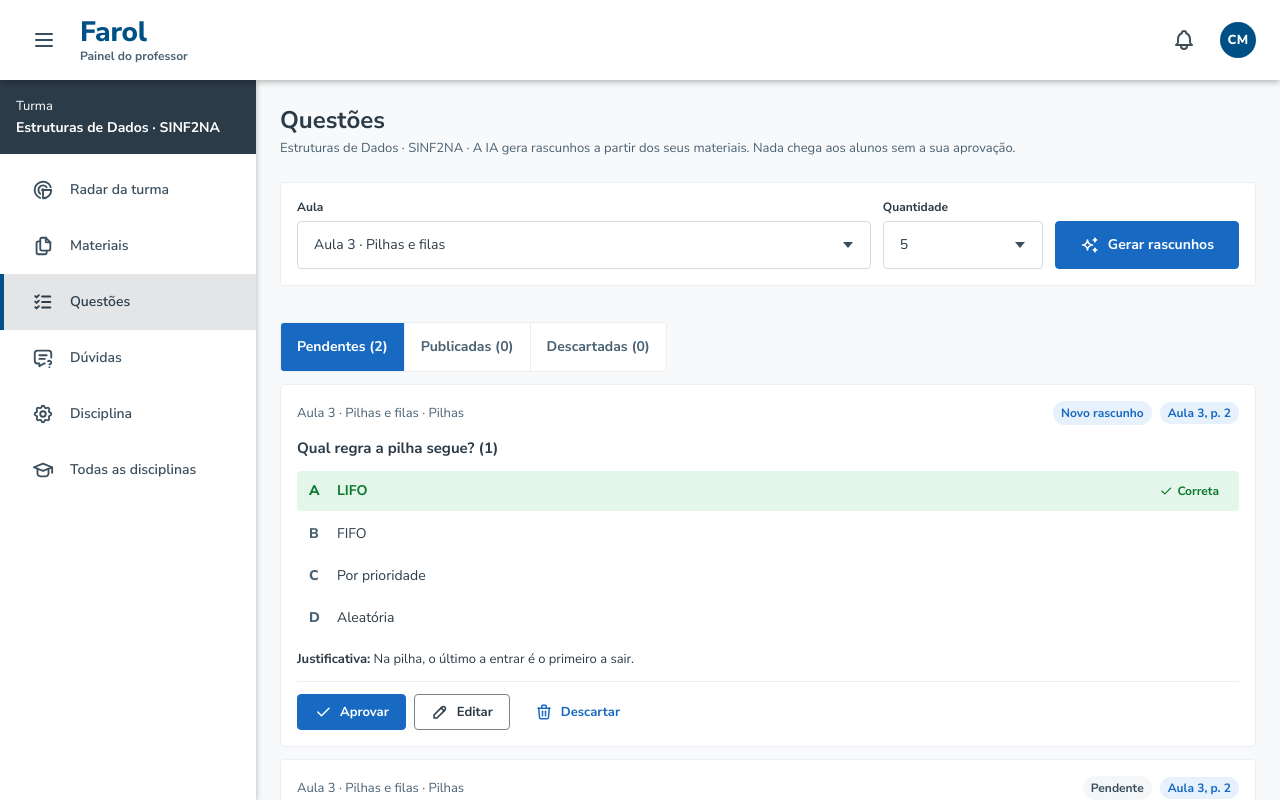
Test: questões do professor (QUE-T23, QUE-T32) › gerar rascunhos pede a quantidade escolhida e mostra os novos
Select "10" in the dropdown labelled "Quantidade" at (963, 245), box [883, 221, 1043, 269]
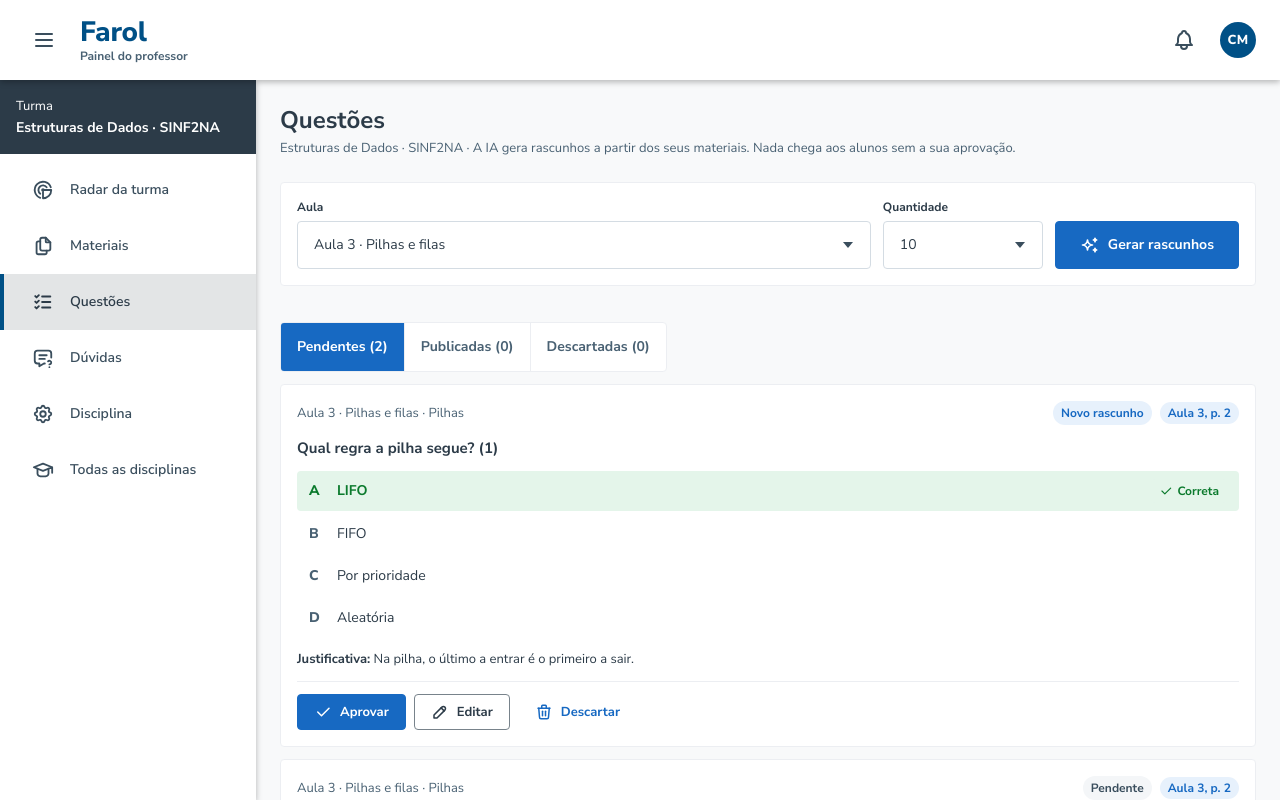
Click the button "Gerar rascunhos".
click(1147, 245)  # box [1055, 221, 1239, 269]
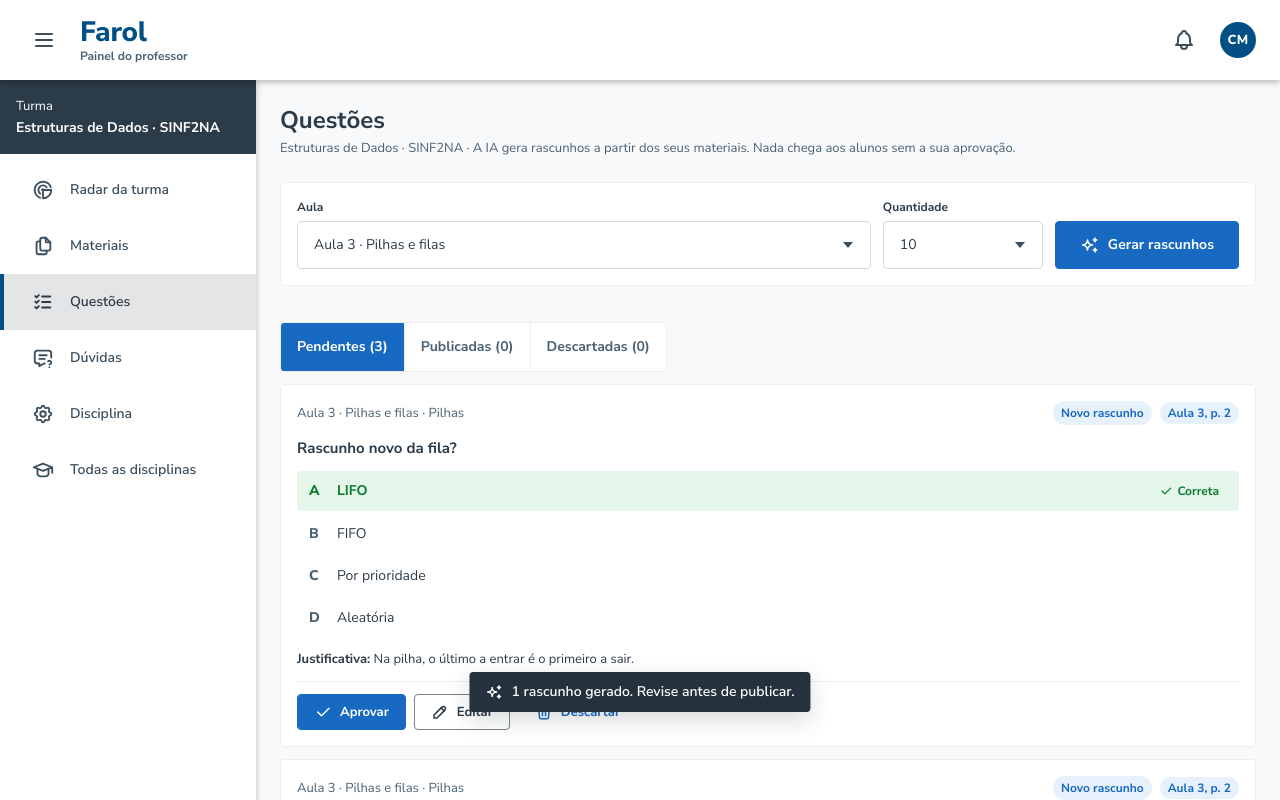
Check: the element named "Rascunho novo da fila?" is shown, box [280, 384, 1256, 747]
Check: the text "1 rascunho gerado. Revise antes de publicar." is shown, box [512, 682, 795, 702]
